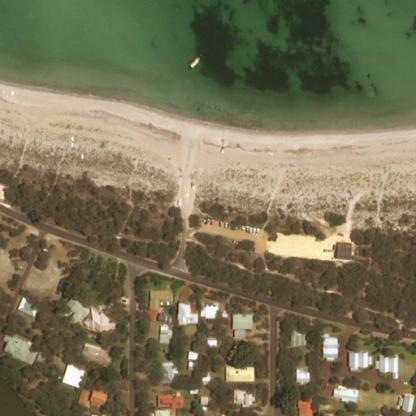ship: (22, 39, 33, 51)
